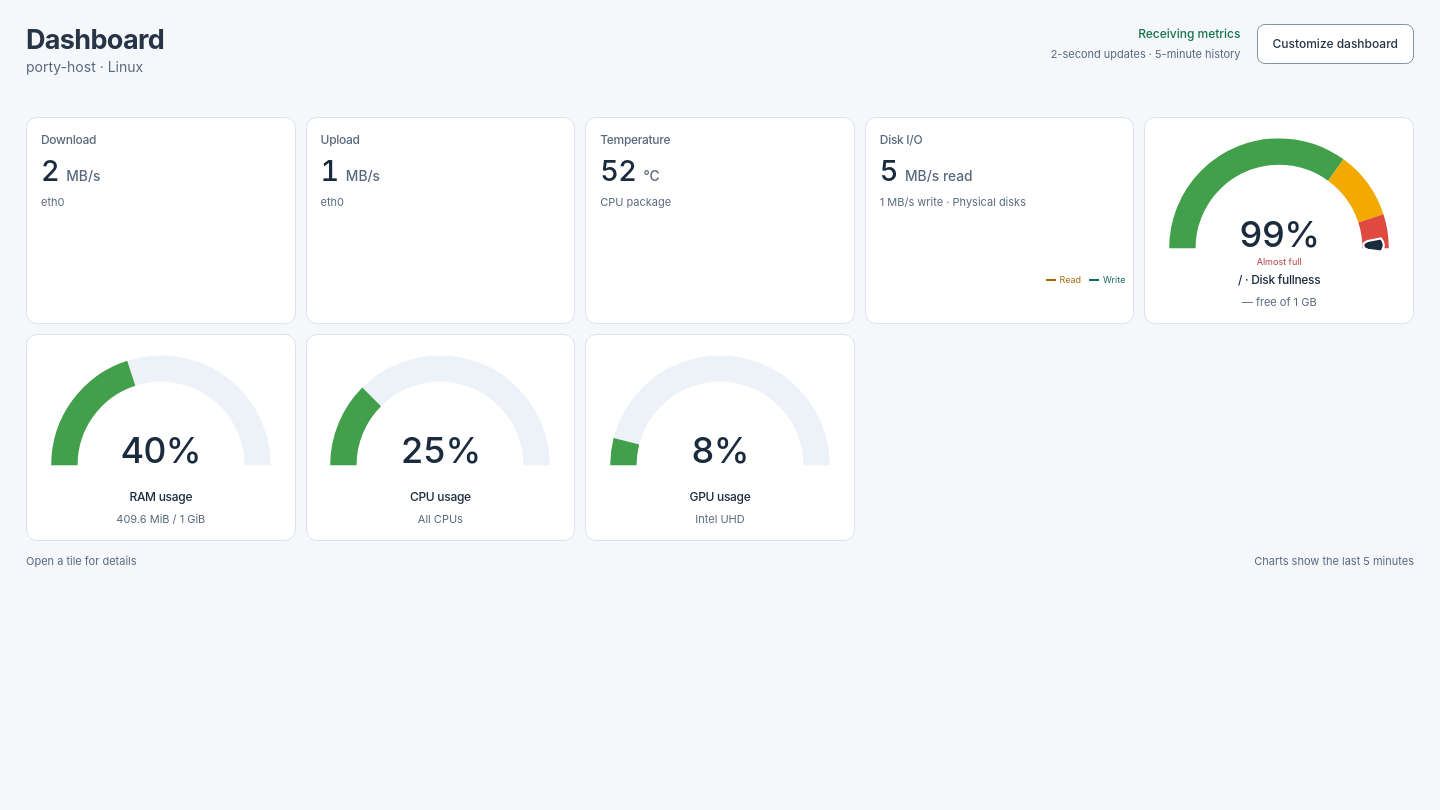
Test: opens tile details without leaving the dashboard and retains CPU history there
The width and height of the screenshot is (1440, 810).
Click the button named "CPU details": x=440, y=438 left=307, top=335, right=574, bottom=540
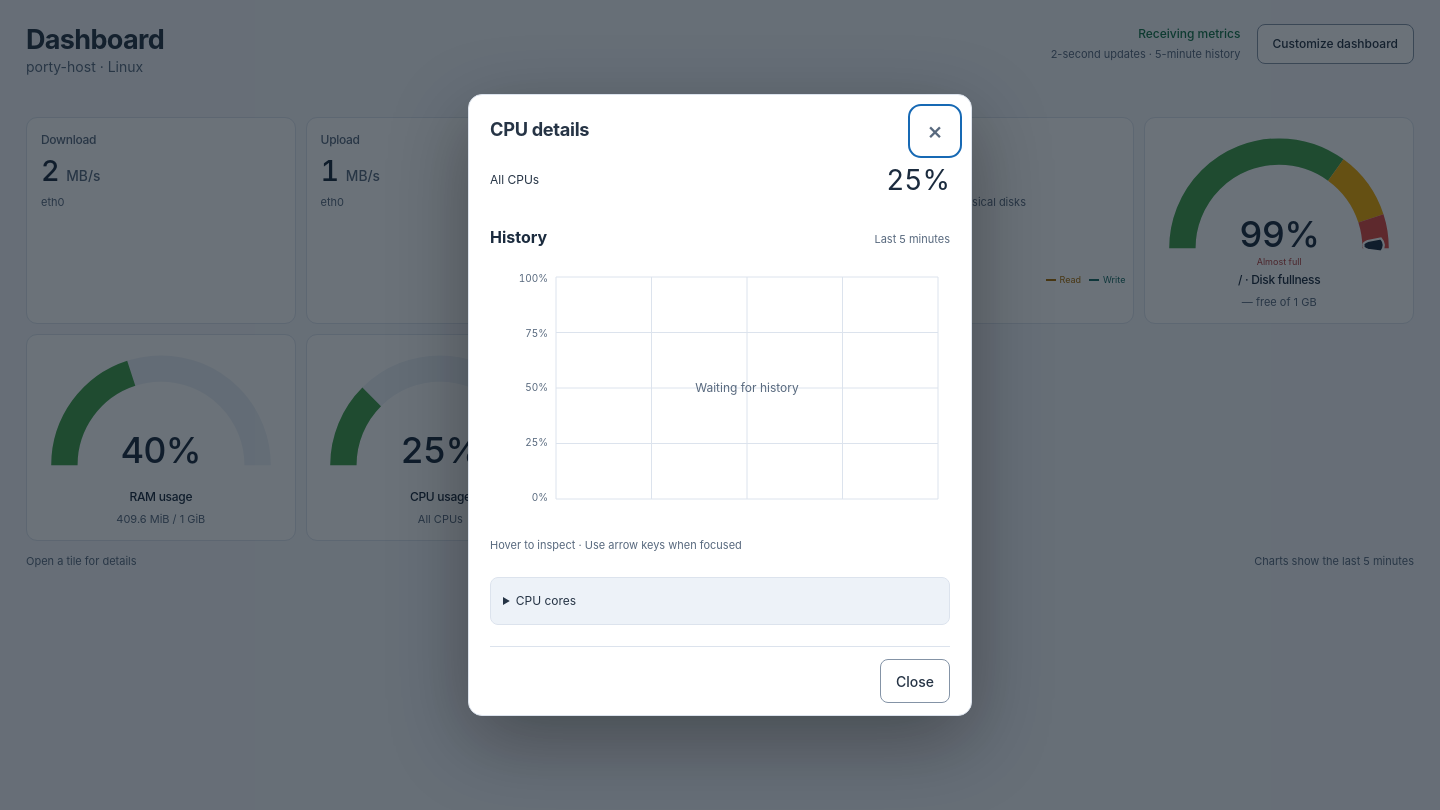
Check: the element named "CPU history" is shown, box left=490, top=269, right=950, bottom=529
Click the button "Close": x=915, y=681 left=880, top=659, right=950, bottom=703
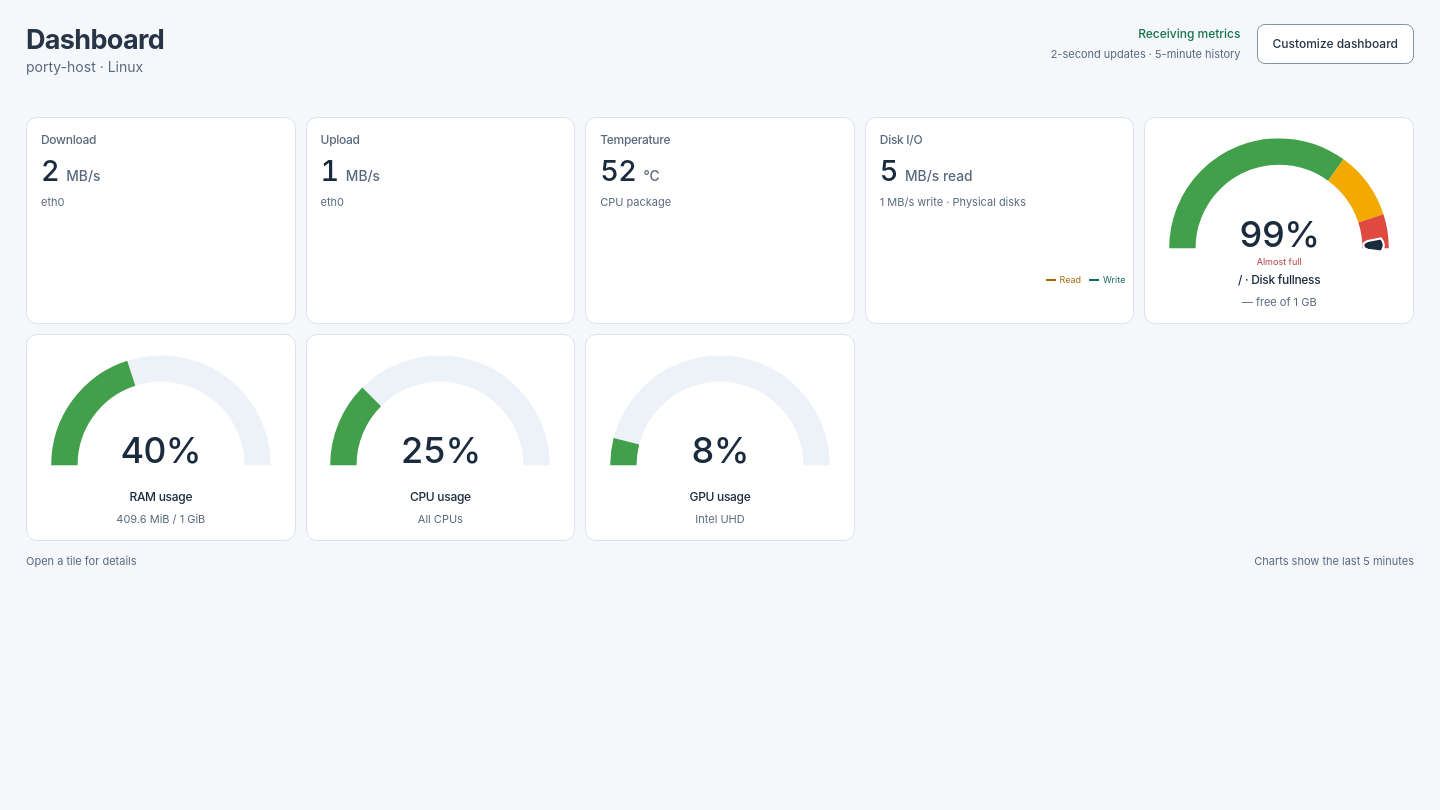
Check: the dialog is gone
